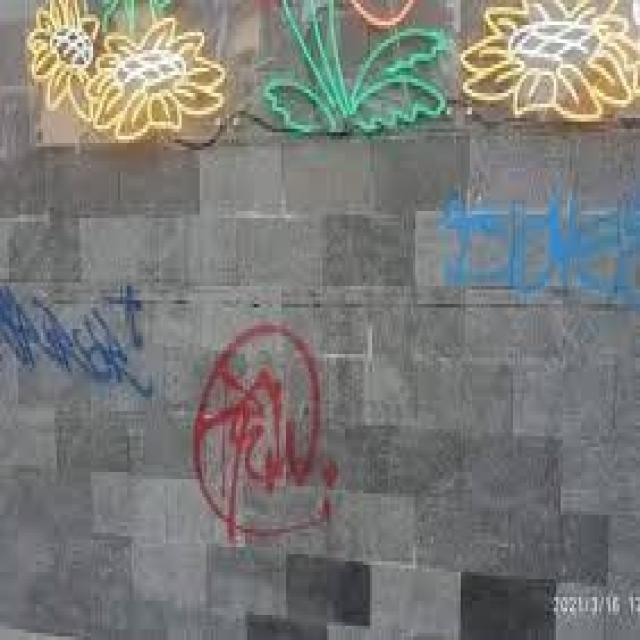nonspitting: (192, 322, 340, 541), (433, 186, 640, 300), (0, 282, 154, 400)
spitting: (25, 0, 225, 142), (266, 0, 448, 136), (458, 0, 640, 122)
